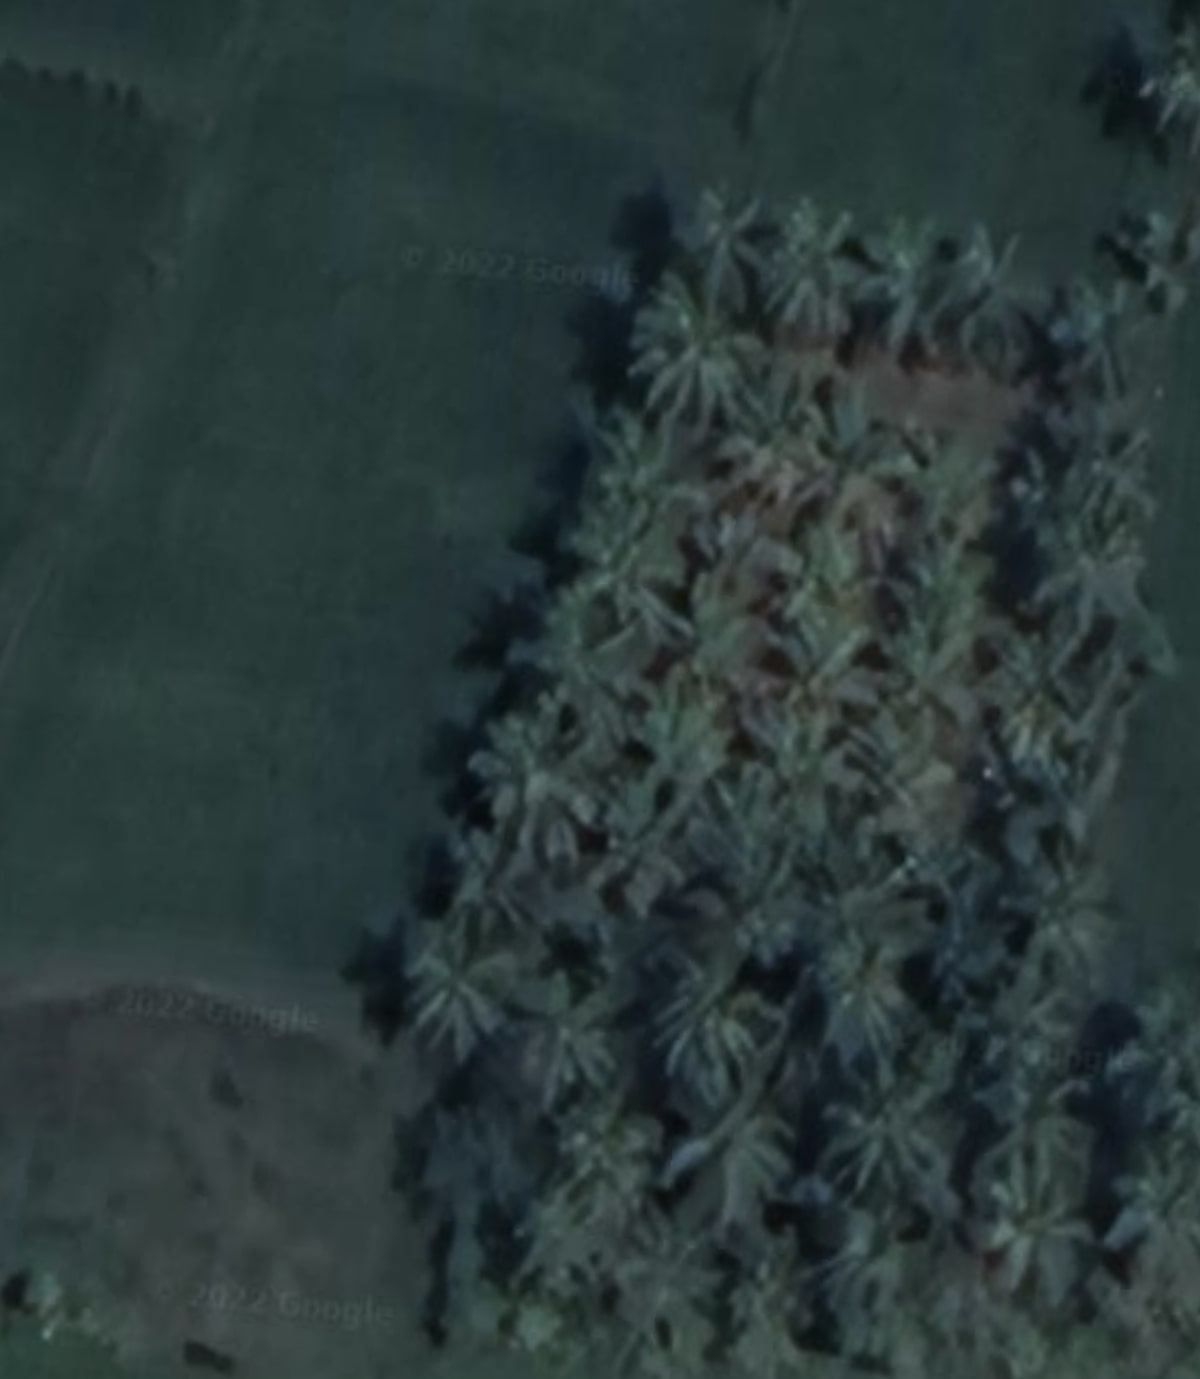coconut: (816, 1068, 955, 1215), (656, 169, 777, 333), (374, 910, 503, 1062), (606, 293, 748, 427), (798, 930, 929, 1071), (683, 770, 795, 933), (571, 487, 692, 637), (676, 1072, 798, 1217), (972, 1060, 1094, 1204), (652, 936, 785, 1068), (459, 689, 585, 826), (755, 192, 857, 358), (968, 1167, 1090, 1302), (845, 220, 951, 374), (945, 219, 1048, 380), (760, 612, 873, 750), (1004, 858, 1121, 989), (890, 543, 997, 673), (1062, 430, 1166, 553), (1133, 14, 1200, 152)
